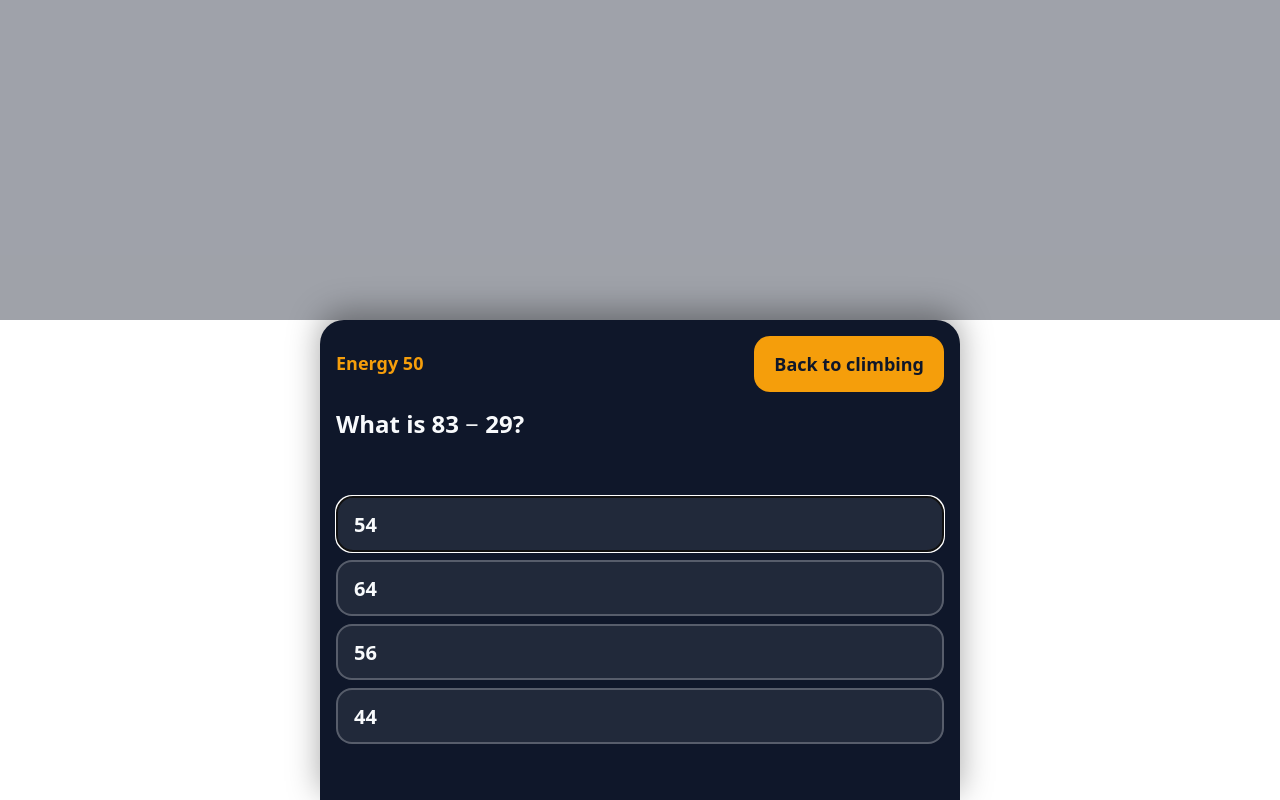
Test case: QuestionSheet › asks a question and adds energy for a correct answer
The width and height of the screenshot is (1280, 800).
What coordinates should you click on to do the following:
click the button with test id "answer-option" showing "54"
I would click on:
 (365, 524)
Its box is top-left (336, 496), bottom-right (944, 552).
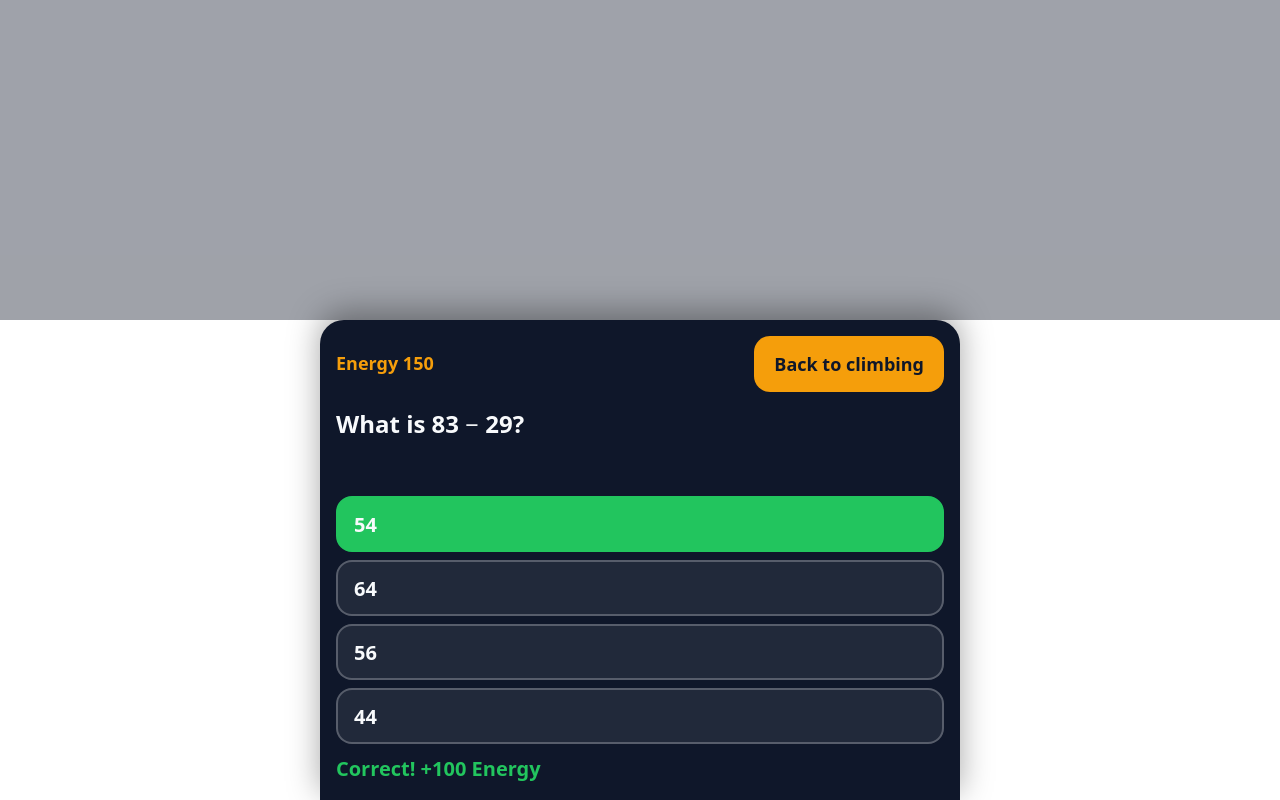
Now the message with test id "answer-feedback" reads "Correct! +100 Energy", box top-left (336, 755), bottom-right (541, 782)
Now the text with test id "sheet-energy" reads "Energy 150", box top-left (336, 351), bottom-right (434, 375)
